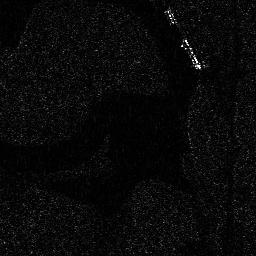ship: (181, 37, 202, 70)
